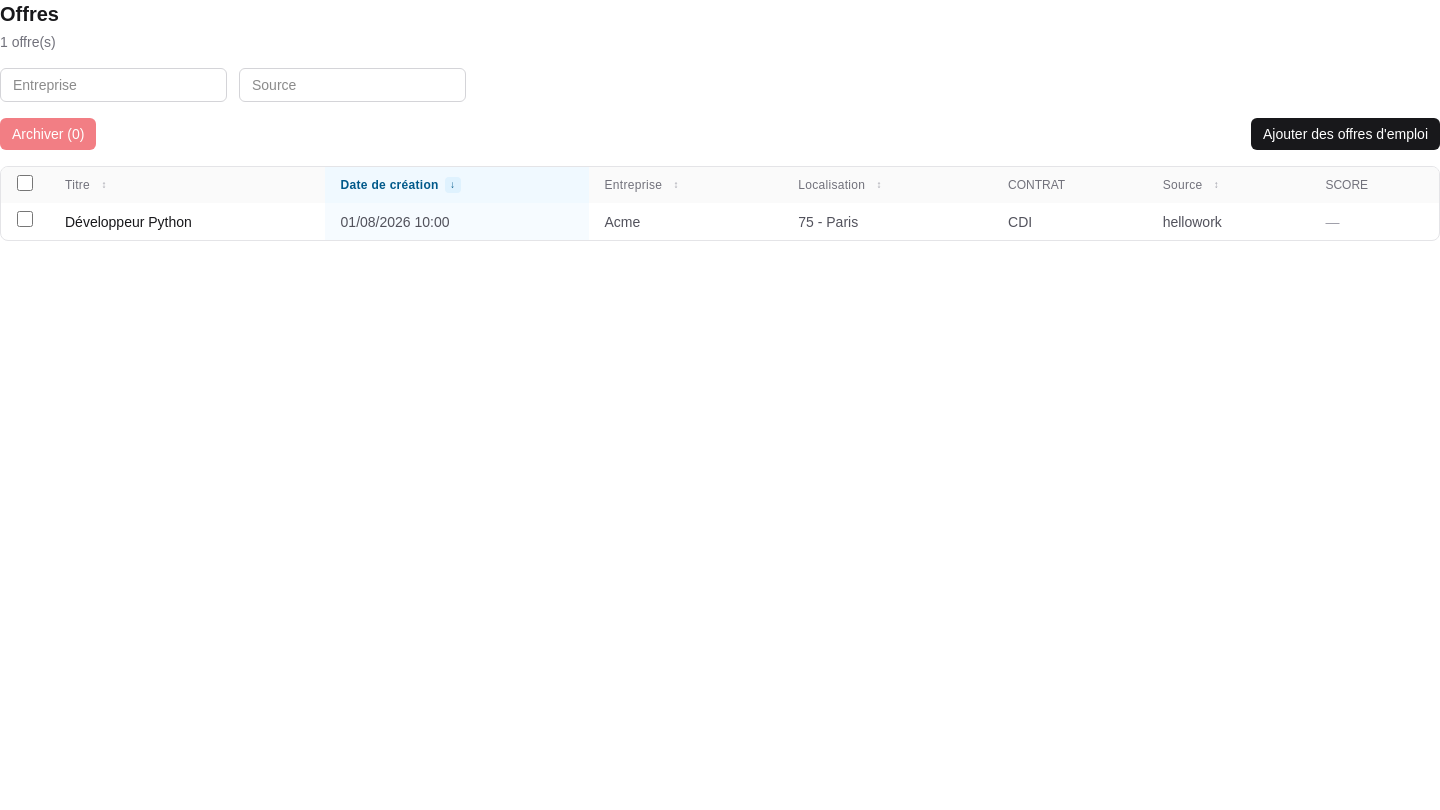
Test case: OffersBrowser › affiche l'erreur et garde la modale ouverte en cas d'échec
Click the button "Ajouter des offres d'emploi" at [1345, 134], box [1251,118,1439,150]
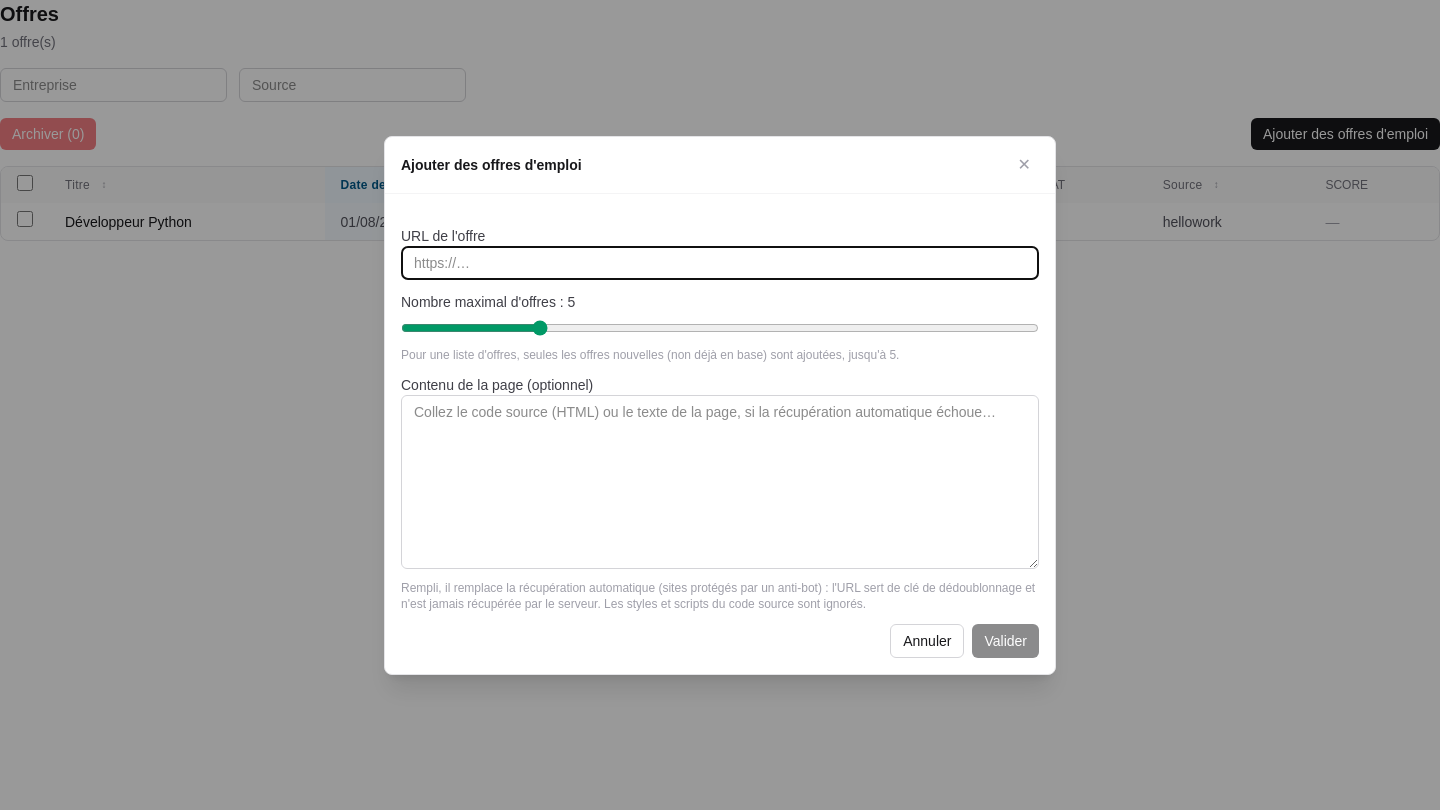
Type "https://example.com/offre/123" into the field labelled "URL de l'offre" at [720, 262], box [401,246,1039,280]
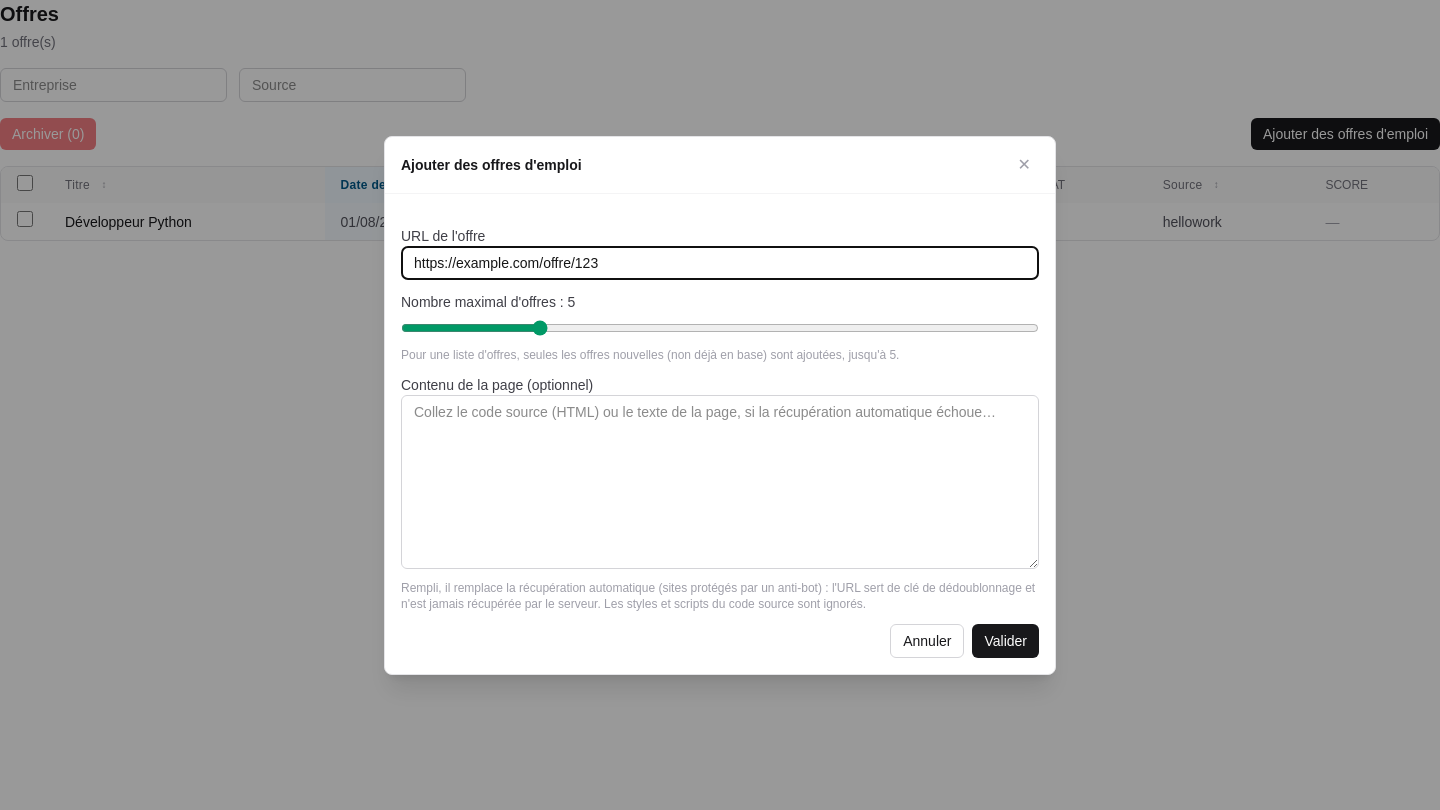
Click the button "Valider" at [1006, 640], box [972,624,1039,658]
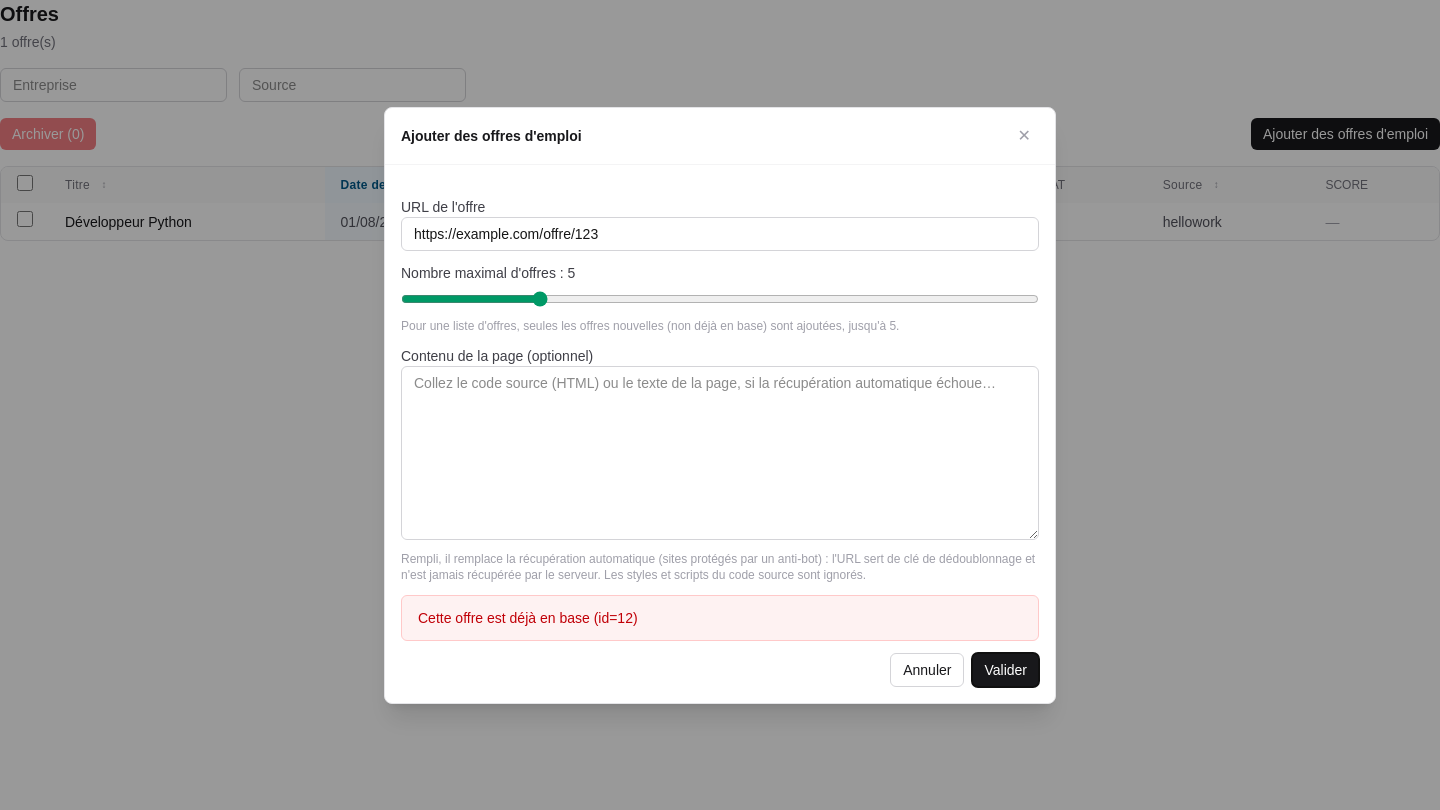
Expected: the text "Cette offre est déjà en base (id=12)" is shown, [401,594,1039,640]
